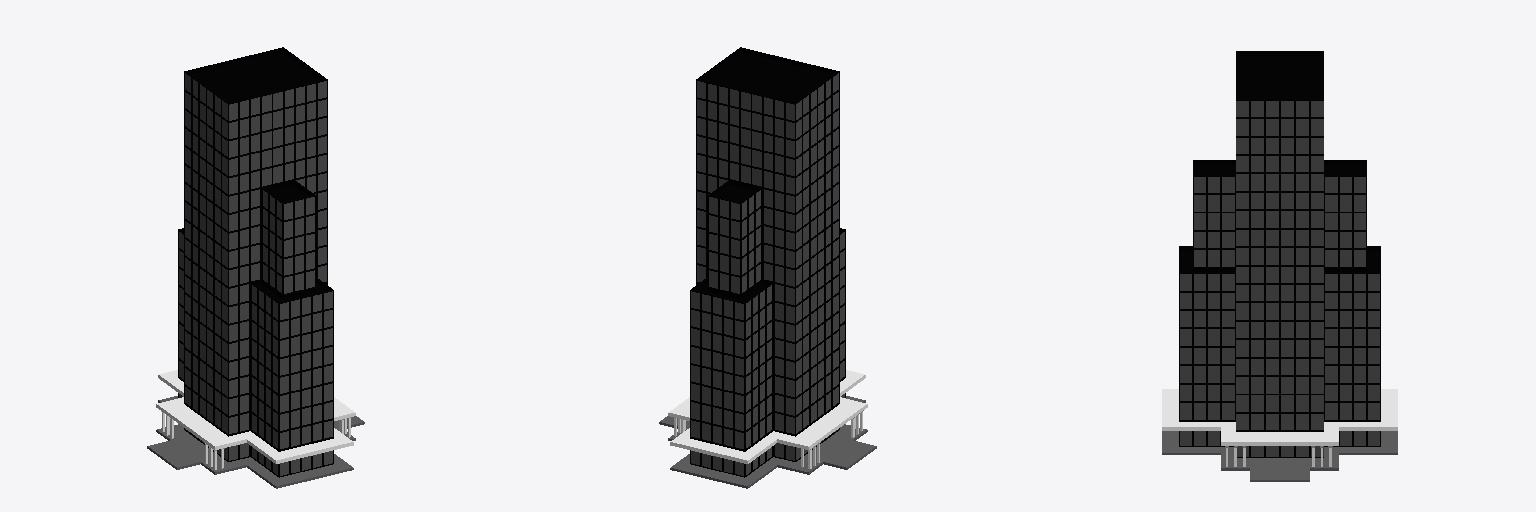
File: ciudad_edificio_grande.obj
3 views of the same model, side by side, from view 1: azimuth 30°, elevation 25°; view 2: azimuth 150°, elevation 25°; view 3: azimuth 270°, elevation 25° (orthographic).
Parts seen in each view (by area): view 1: rv_building_1:L_building; view 2: rv_building_1:L_building; view 3: rv_building_1:L_building.
Part boxes in pixels (x1,y1,x2,y2): rv_building_1:L_building: (147, 47, 364, 488); rv_building_1:L_building: (659, 47, 876, 488); rv_building_1:L_building: (1162, 51, 1397, 481).
Size of the model in its own units: 25.17 by 46.18 by 27.31.